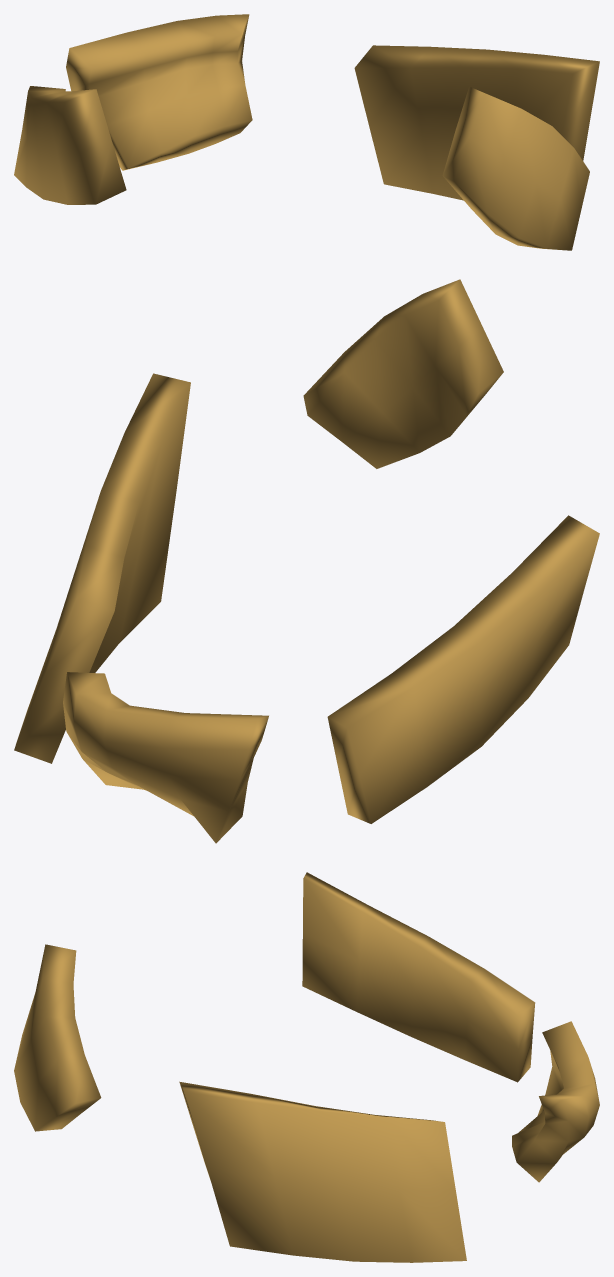
The picture shows the model from 3 angles, top to bottom: view 1: azimuth 30°, elevation 25°; view 2: azimuth 150°, elevation 25°; view 3: azimuth 270°, elevation 25°; orthographic projection. The views are drawn at different scales.
Visible parts, largest first — view 1: 左侧豌豆三角骨韧带; view 2: 左侧豌豆三角骨韧带; view 3: 左侧豌豆三角骨韧带.
Part boxes in pixels (<box>): 左侧豌豆三角骨韧带: <box>14,14,599,250</box>; 左侧豌豆三角骨韧带: <box>14,279,599,843</box>; 左侧豌豆三角骨韧带: <box>14,872,599,1262</box>.
Size of the model in its own units: 0.0111 by 0.00665 by 0.0137.
